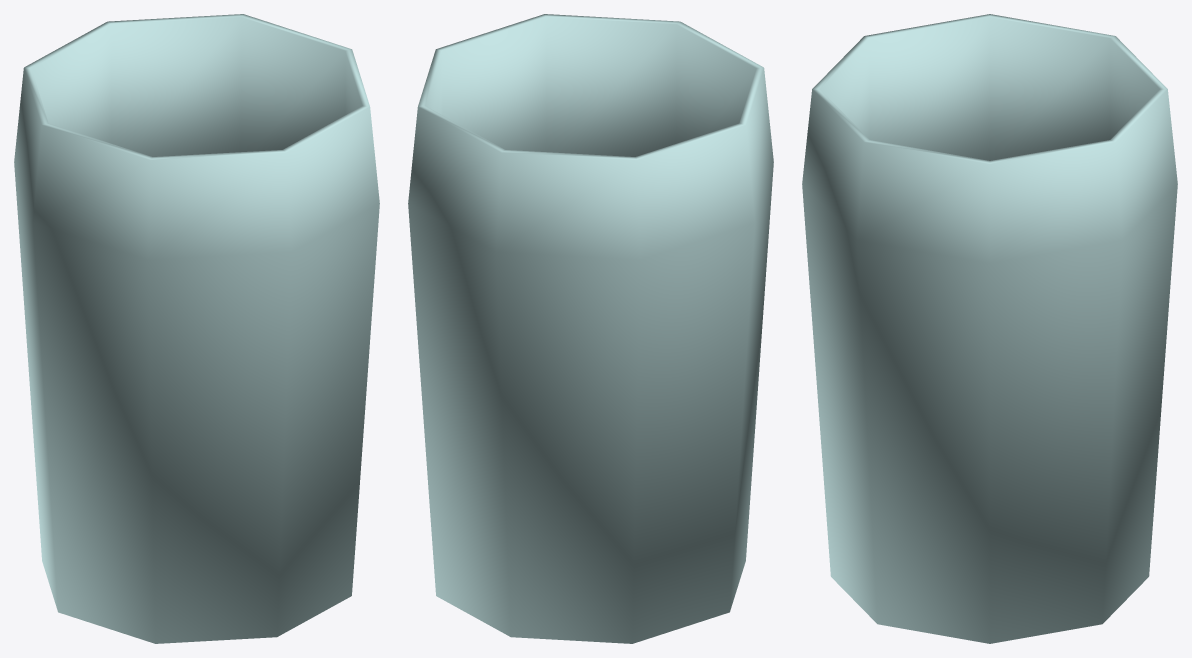
The model's file is pint.obj.
3 views of the same model, side by side, from view 1: azimuth 30°, elevation 25°; view 2: azimuth 150°, elevation 25°; view 3: azimuth 270°, elevation 25° (orthographic).
Visible parts, largest first — view 1: beer_Circle; view 2: beer_Circle; view 3: beer_Circle.
Boxes of the visible parts, left/top/right/bottom form: beer_Circle: left=14, top=14, right=379, bottom=643; beer_Circle: left=408, top=14, right=773, bottom=643; beer_Circle: left=802, top=14, right=1177, bottom=643.
Bounding box in the file's own units: 0.059 × 0.0845 × 0.059.
